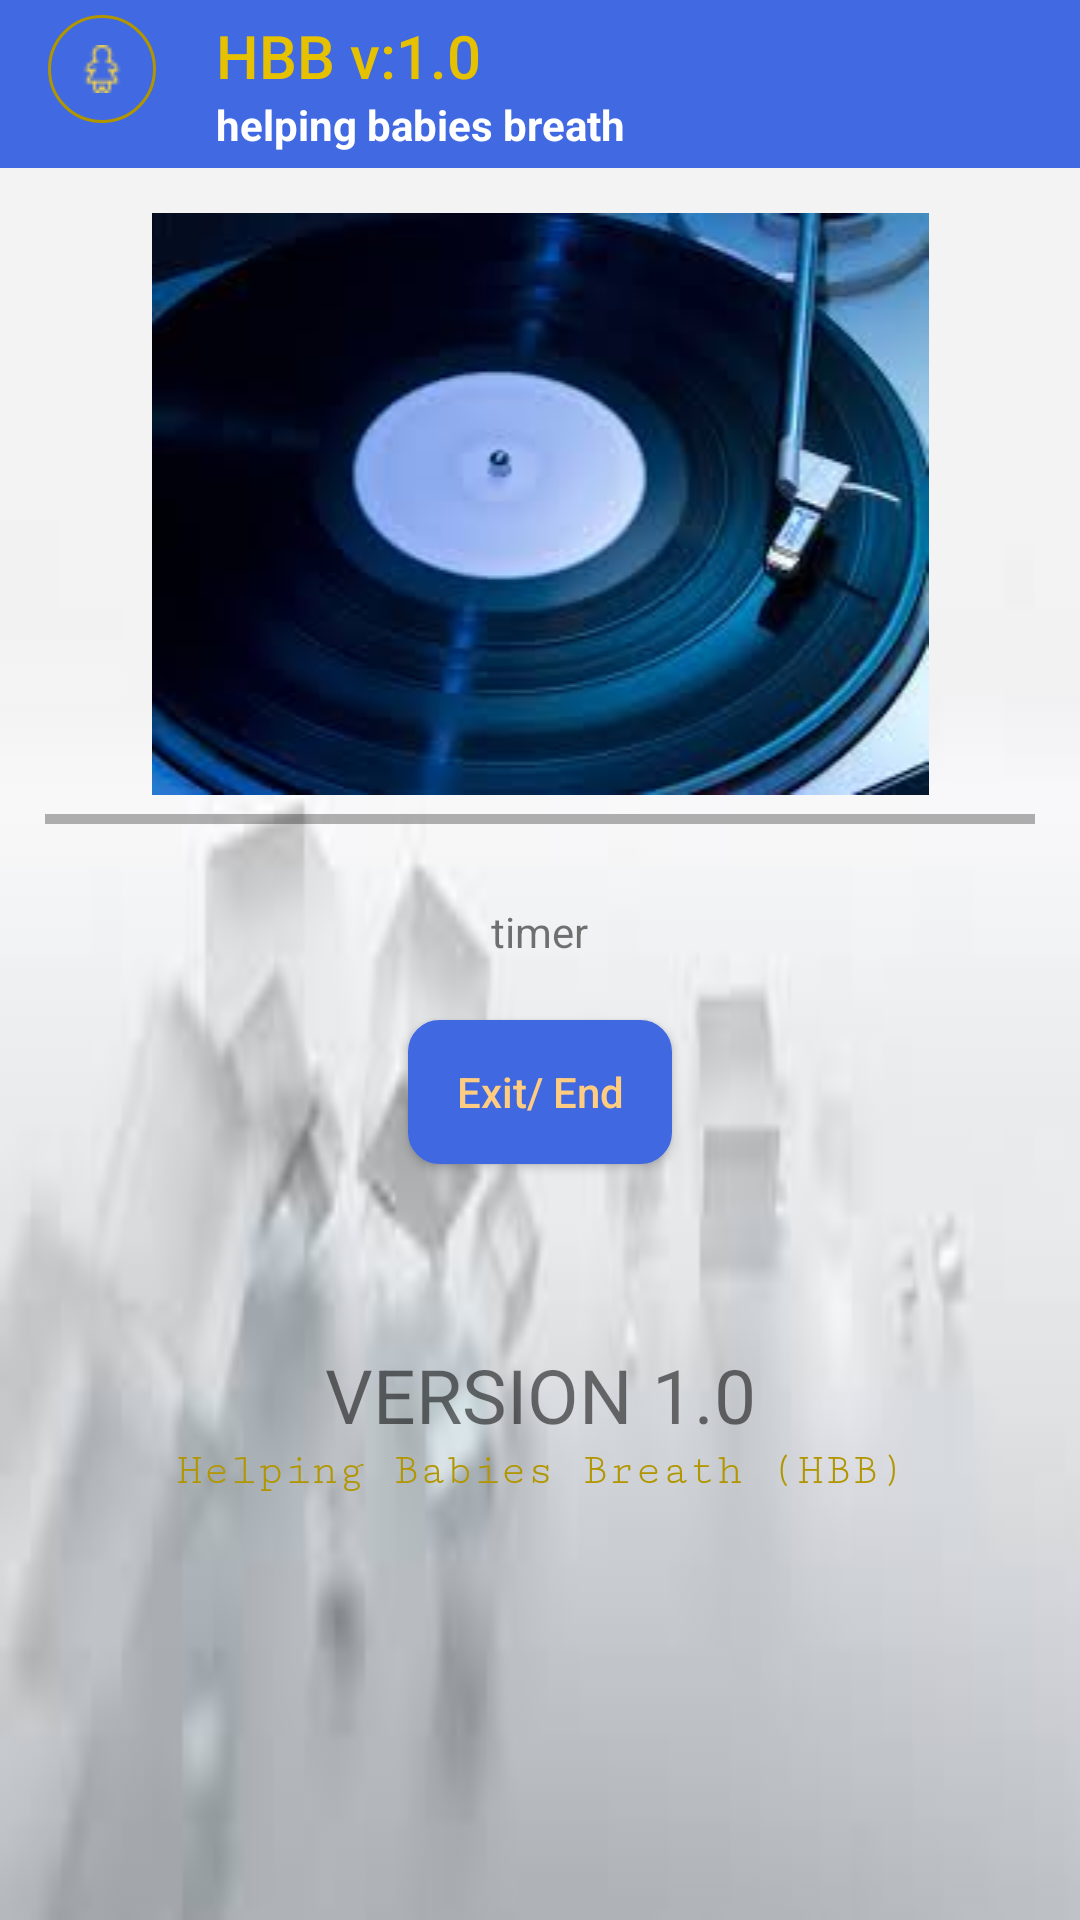

Screen size 1080 x 1920. Icon name, then its box in pixels as (x1, y1, x2, y2):
babe girl: (48, 15, 156, 123)
